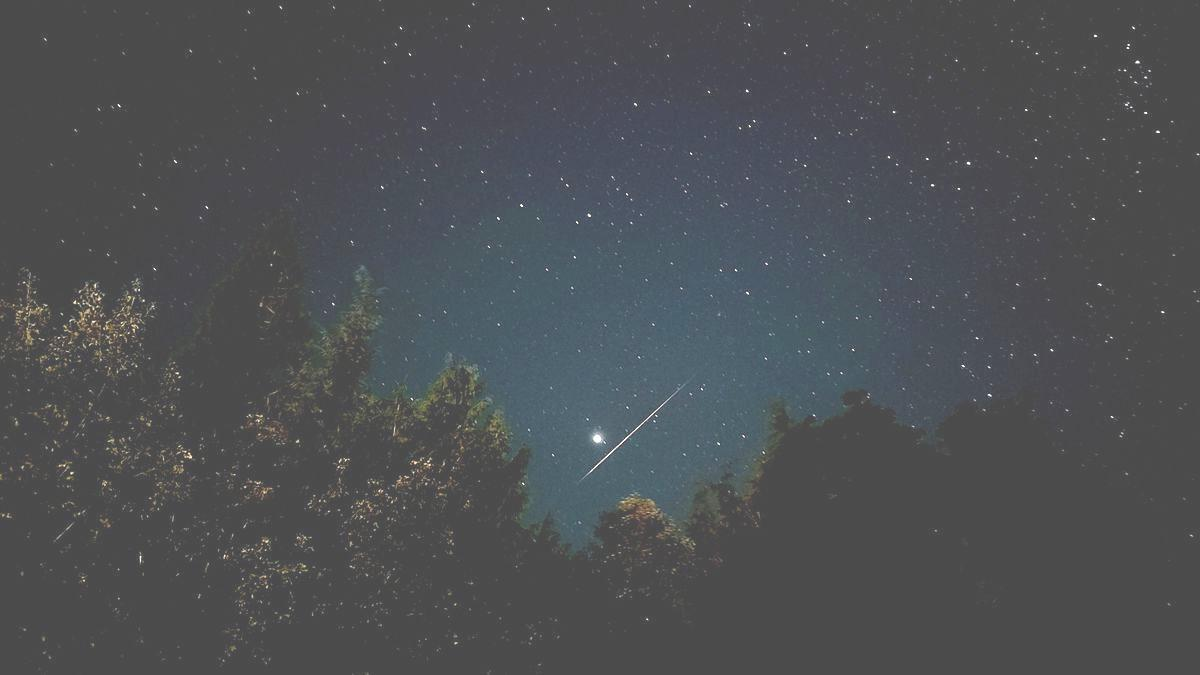meteorite: (576, 365, 722, 474)
